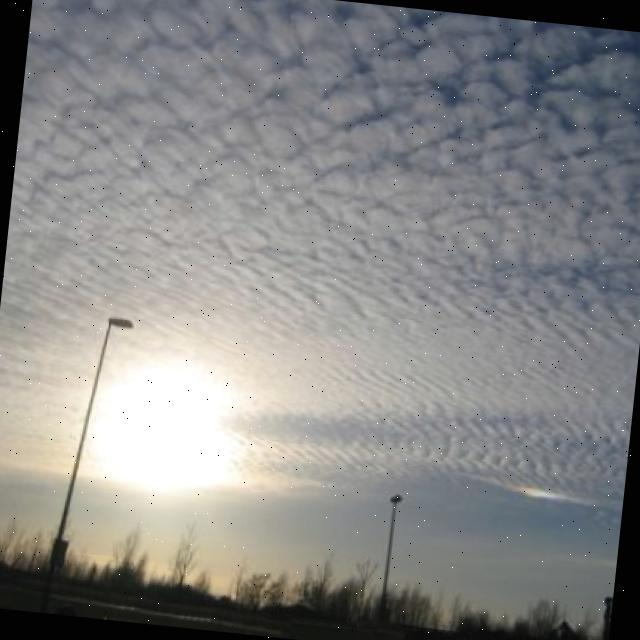Cc: (7, 1, 640, 314)
